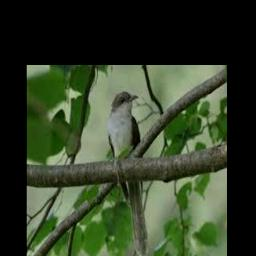Cuckoo: (107, 91, 147, 256)
